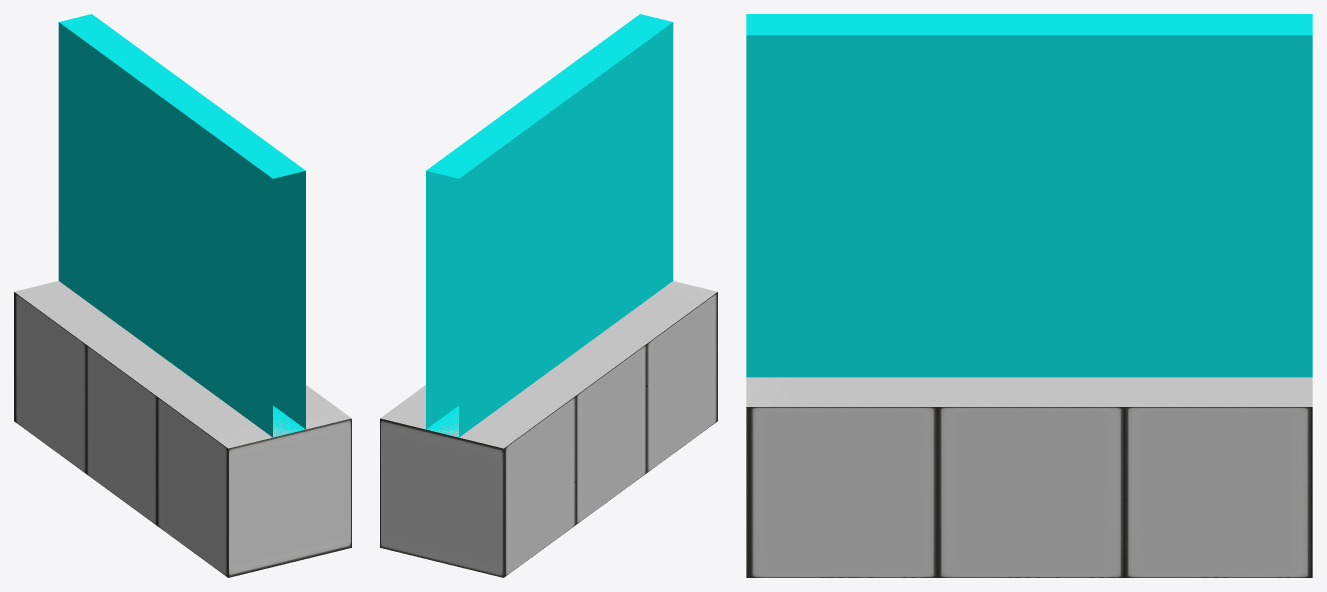
Rendered from noFace_wallWindow3L.fbx.
3 renders of one model, left to right at view 1: azimuth 30°, elevation 25°; view 2: azimuth 150°, elevation 25°; view 3: azimuth 270°, elevation 25°, orthographic. The views are drawn at different scales.
Parts seen in each view (by area): view 1: window5L, wallForWindow5L; view 2: window5L, wallForWindow5L; view 3: window5L, wallForWindow5L.
Boxes of the visible parts, box(x1,y1,x2,y2) form: window5L: box(58, 14, 305, 437); wallForWindow5L: box(14, 281, 351, 577); window5L: box(426, 14, 673, 437); wallForWindow5L: box(380, 281, 717, 577); window5L: box(746, 14, 1312, 377); wallForWindow5L: box(746, 377, 1312, 577).
Size of the model in its own units: 1 by 3 by 3.
